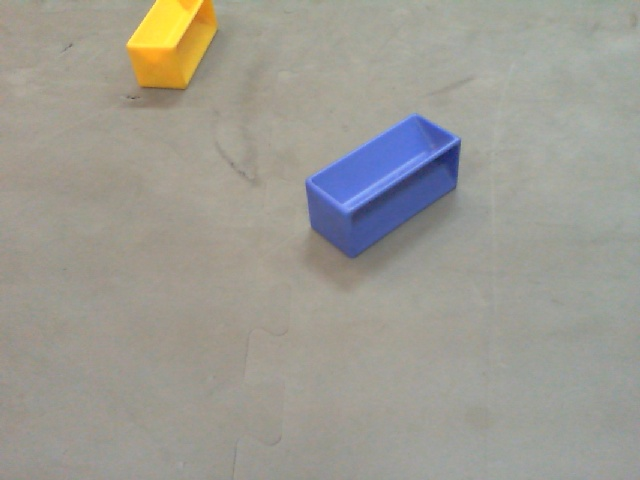BlueSample: (304, 112, 464, 262)
YellowSample: (124, 1, 221, 95)
